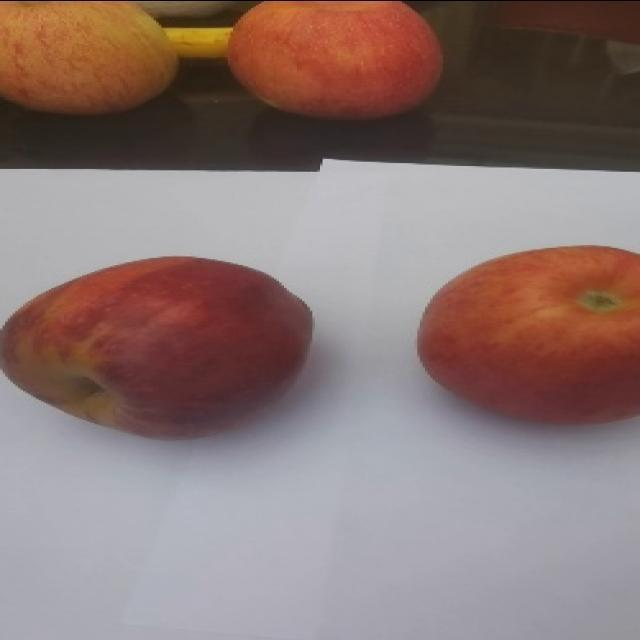Apple: (0, 254, 314, 440), (416, 243, 639, 425), (226, 0, 444, 121), (0, 0, 179, 116)
